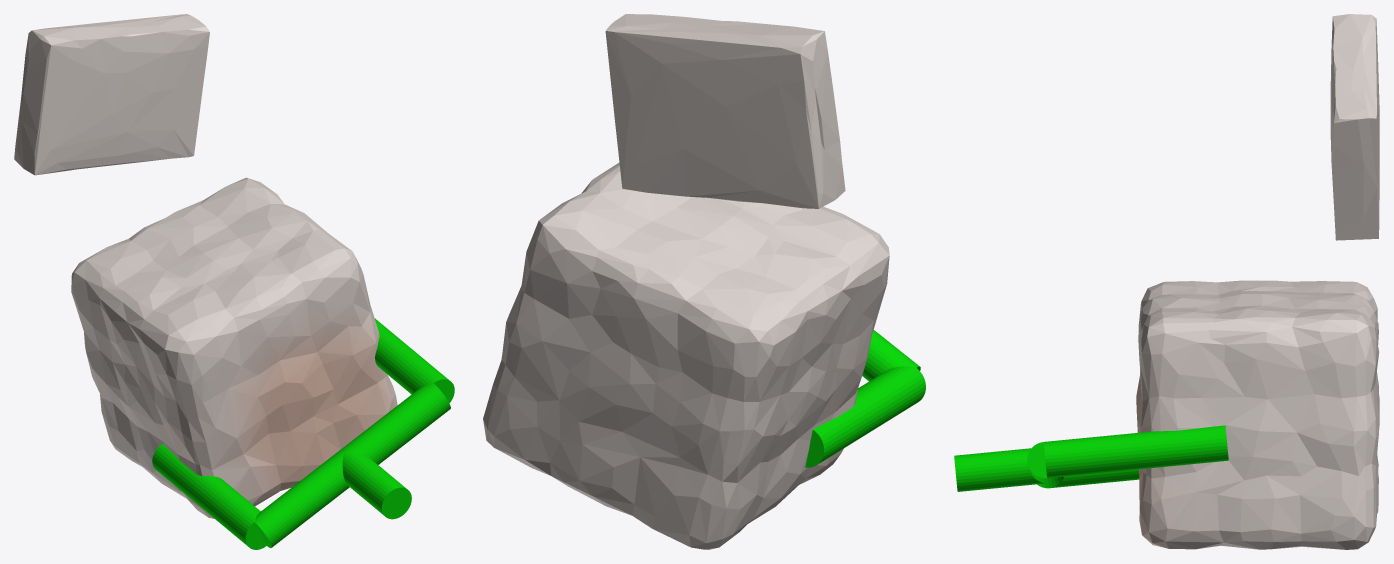
The model's file is round_000_trial_003.obj.
3 views of the same model, side by side, from view 1: azimuth 30°, elevation 25°; view 2: azimuth 150°, elevation 25°; view 3: azimuth 270°, elevation 25° (orthographic). The views are drawn at different scales.
Parts seen in each view (by area): view 1: geometry_0, geometry_1; view 2: geometry_0, geometry_1; view 3: geometry_0, geometry_1.
Part boxes in pixels (x1,y1,x2,y2): geometry_0: (14, 14, 397, 518); geometry_1: (152, 318, 454, 549); geometry_0: (483, 14, 889, 549); geometry_1: (805, 330, 925, 467); geometry_0: (1136, 14, 1379, 549); geometry_1: (954, 425, 1228, 491).
Bounding box in the file's own units: 0.0927 × 0.1371 × 0.1166.
